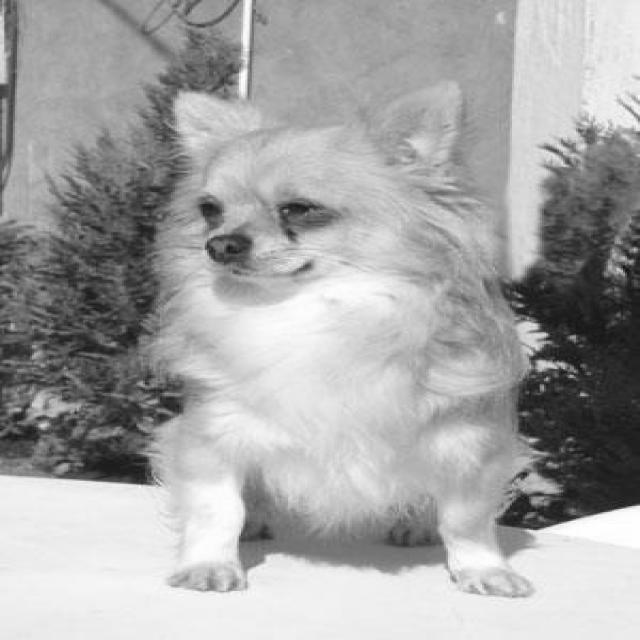sitting: (134, 83, 546, 605)
